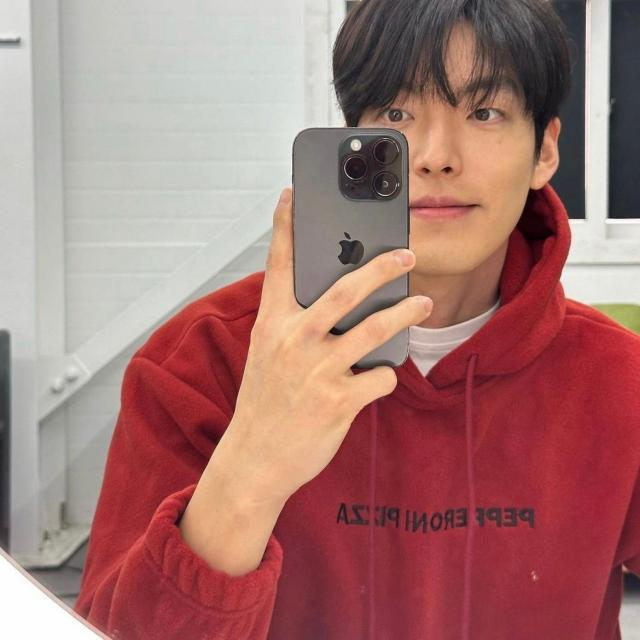phone: (292, 128, 409, 368)
